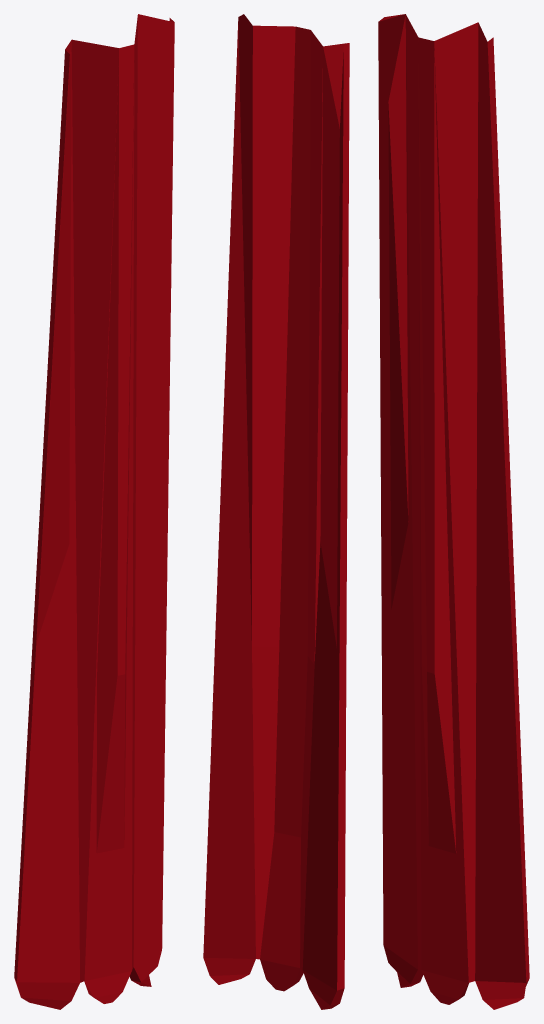
File: Curtain.glb
The picture shows the model from 3 angles, left to right: view 1: azimuth 30°, elevation 25°; view 2: azimuth 150°, elevation 25°; view 3: azimuth 330°, elevation 25°; orthographic projection. The views are drawn at different scales.
Parts seen in each view (by area): view 1: Plane; view 2: Plane; view 3: Plane.
Boxes of the visible parts, box(x1,y1,x2,y2) form: Plane: box(14, 14, 174, 1009); Plane: box(203, 14, 349, 1009); Plane: box(378, 14, 529, 1009).
Size of the model in its own units: 5 by 32.65 by 2.35.
